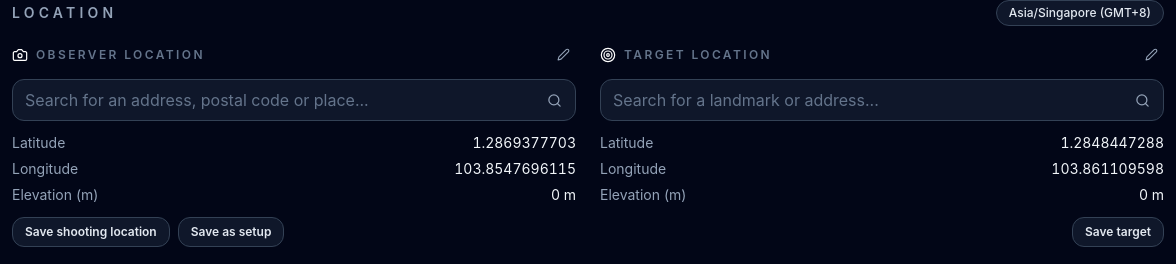
Test: LocationControls › renders observer save controls and saves the observer as a shooting location
Expected: the button with test id "save-setup-button" is shown, [178, 217, 284, 247]
Click the button with test id "save-shooting-location-button": (91, 232) [12, 217, 170, 247]
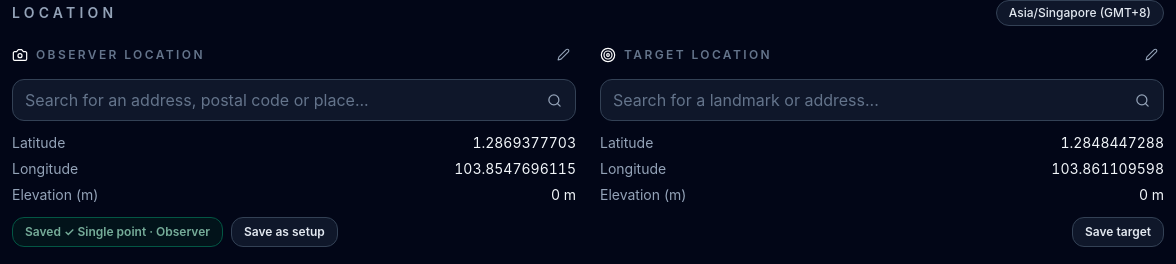
Expected: the button with test id "saved-shooting-location-button" shows "Single point", [12, 217, 223, 247]
